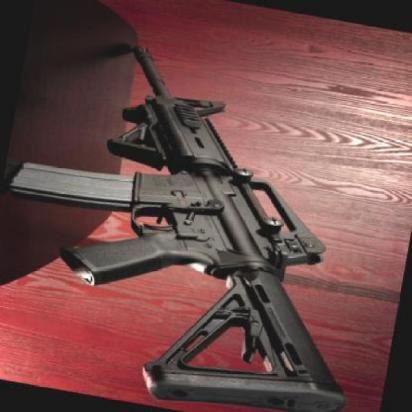Gun: (0, 17, 392, 412)
